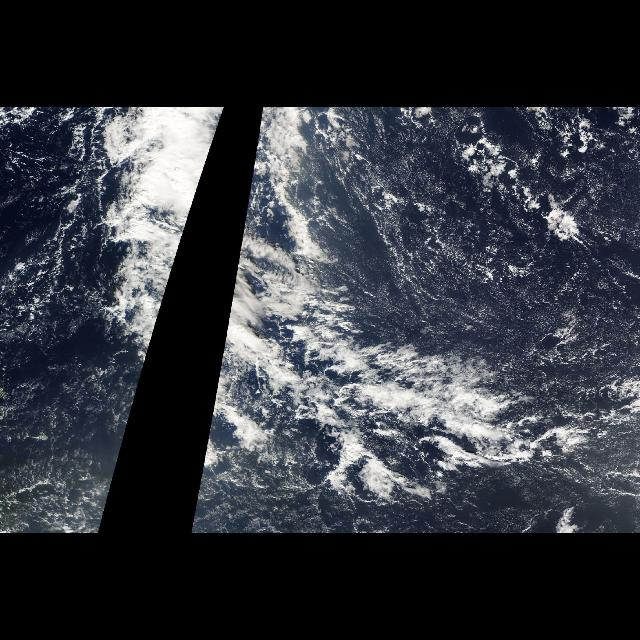Fish: (218, 121, 354, 377), (94, 121, 222, 377)
Gravel: (352, 116, 636, 358)
Sugar: (342, 130, 466, 356), (475, 226, 627, 374)
